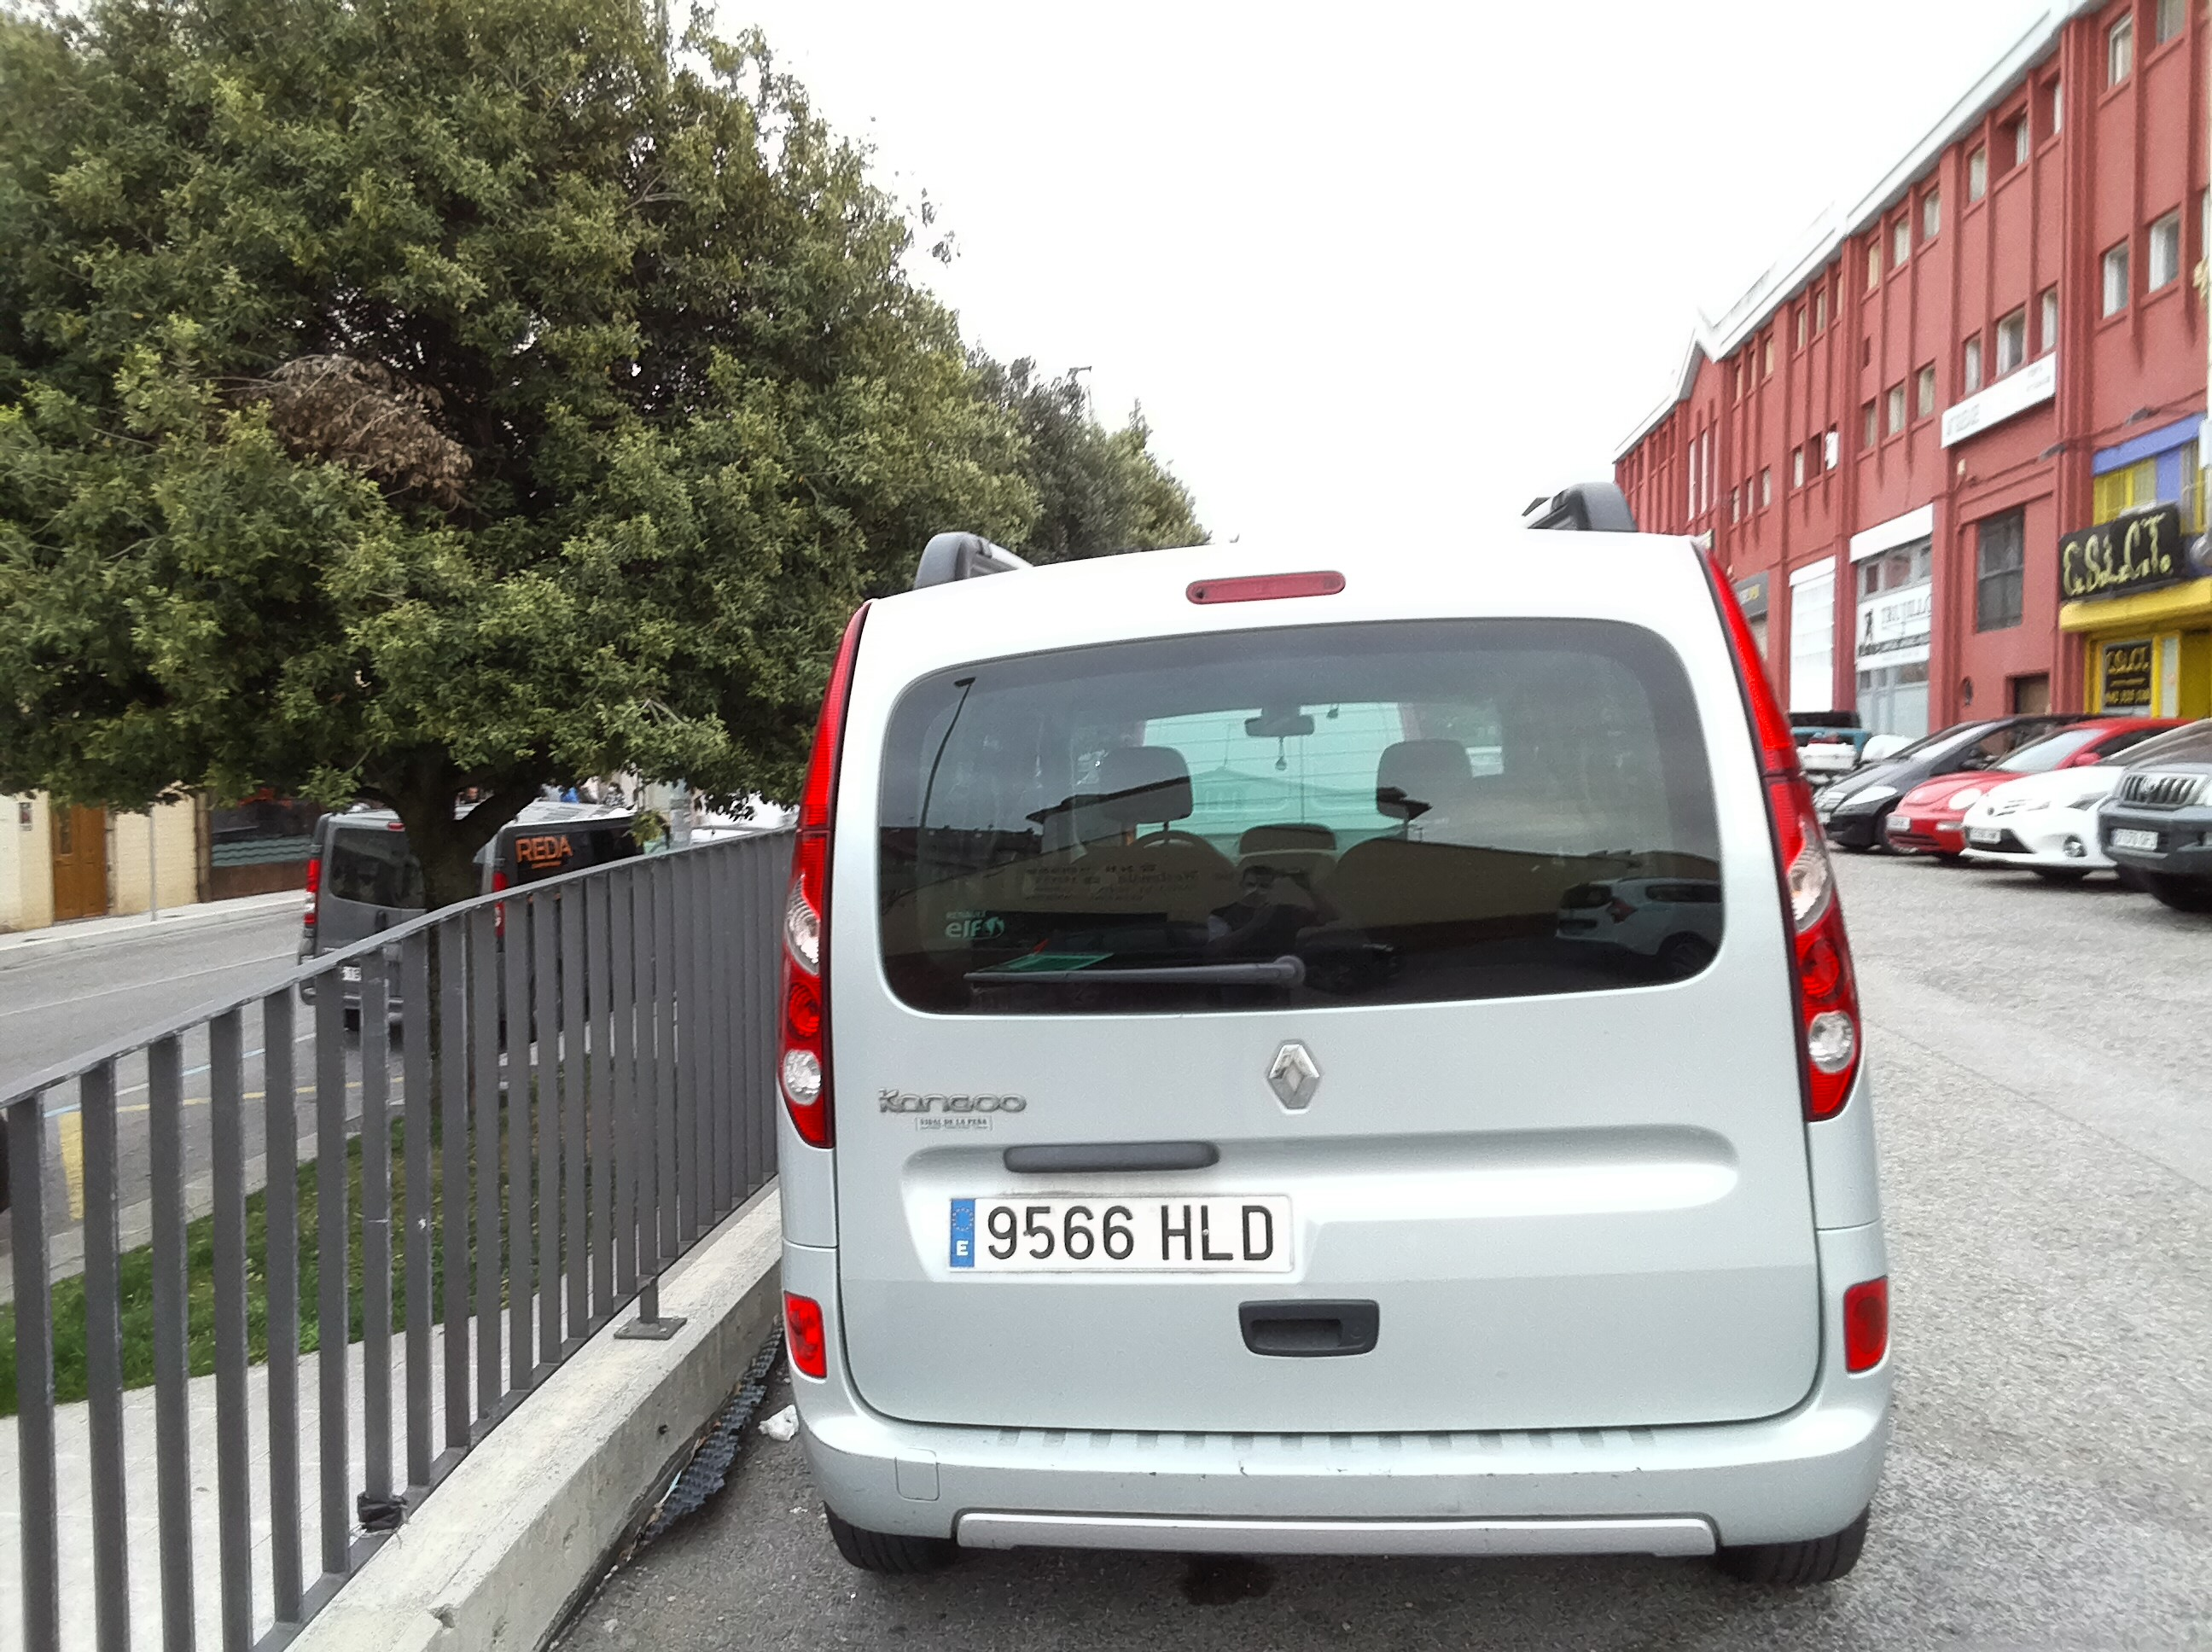Arbol: (0, 2, 725, 833)
Valla: (0, 855, 711, 1652)
Vehiculo: (743, 517, 1895, 1631)
